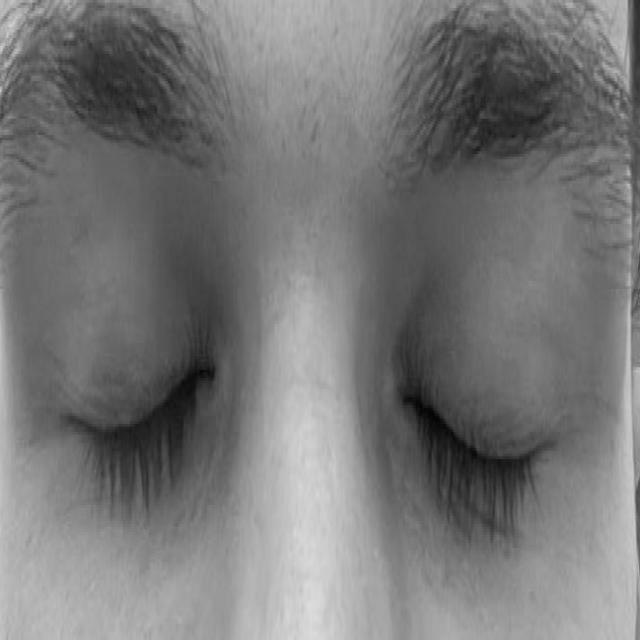real: (26, 48, 612, 593)
